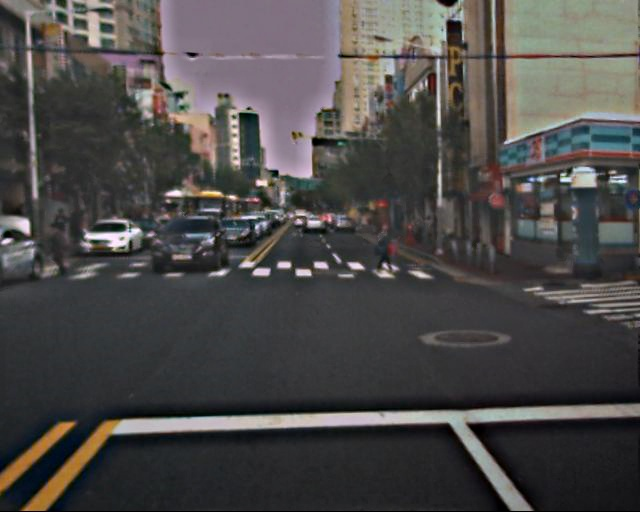person: (370, 221, 402, 281), (42, 218, 75, 276)
